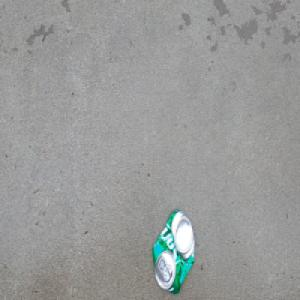SodaCan: (151, 207, 196, 296)
